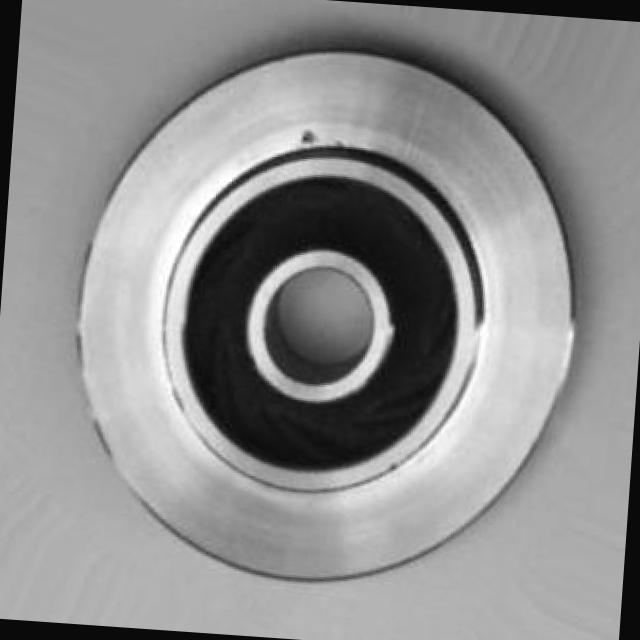Defect: (300, 126, 319, 144)
